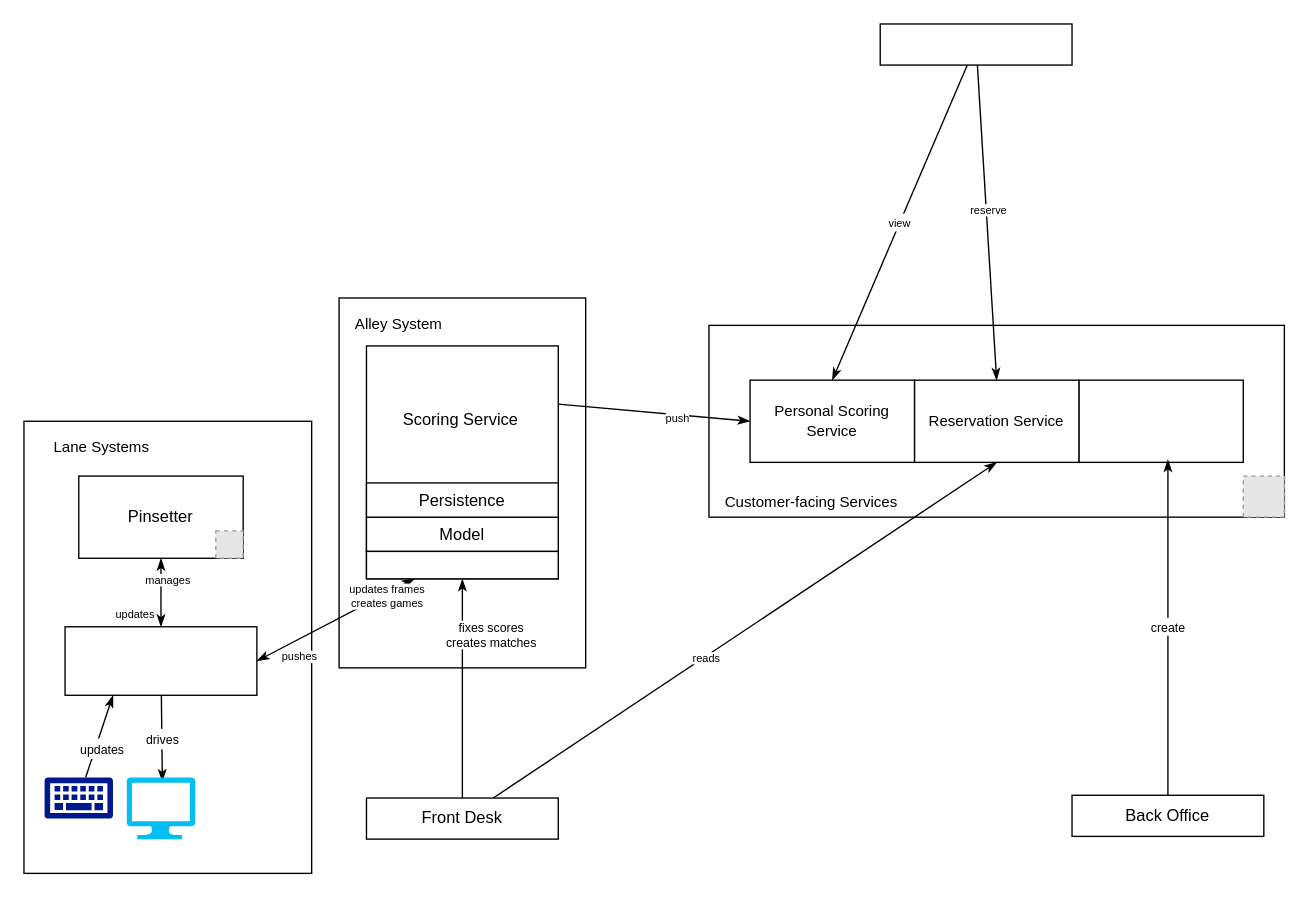
Image size: 1308x897. Some labels were removed from this diagram. Grey dashed boxes stand in for pictures. Each missing label, with the centre of its shape:
Customer: (975,44)
Lane Service: (160,660)
REST: (461,564)
Tournament Service: (1160,420)
